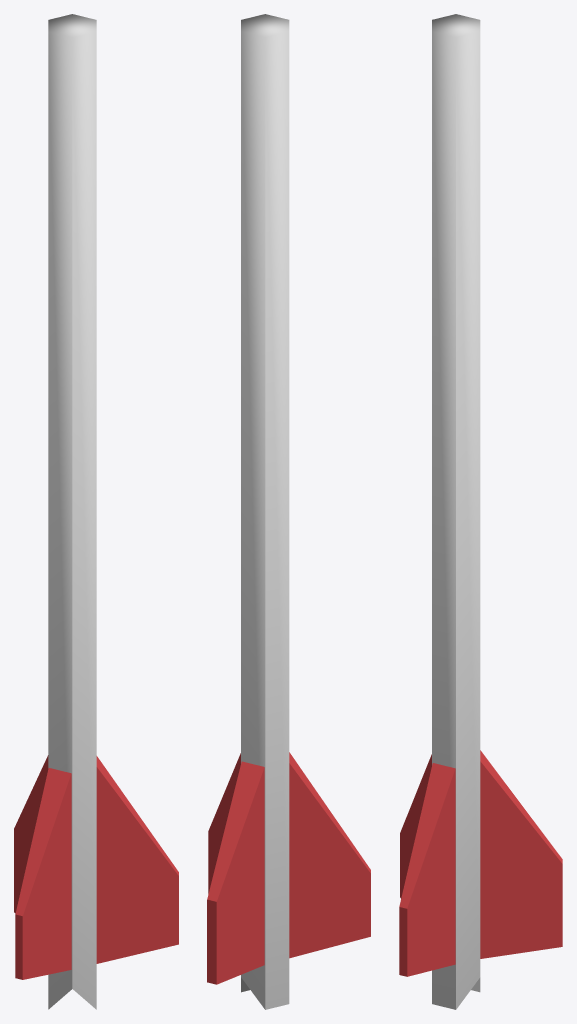
File: ArrowEnd.fbx
The picture shows the model from 3 angles, left to right: view 1: azimuth 30°, elevation 25°; view 2: azimuth 150°, elevation 25°; view 3: azimuth 270°, elevation 25°; orthographic projection.
Visible parts, largest first — view 1: arrow; view 2: arrow; view 3: arrow.
Part boxes in pixels (bbox=[...]): arrow: bbox=[14, 14, 178, 1009]; arrow: bbox=[207, 14, 370, 1009]; arrow: bbox=[399, 14, 562, 1009].
Size of the model in its own units: 133 by 759 by 116.
